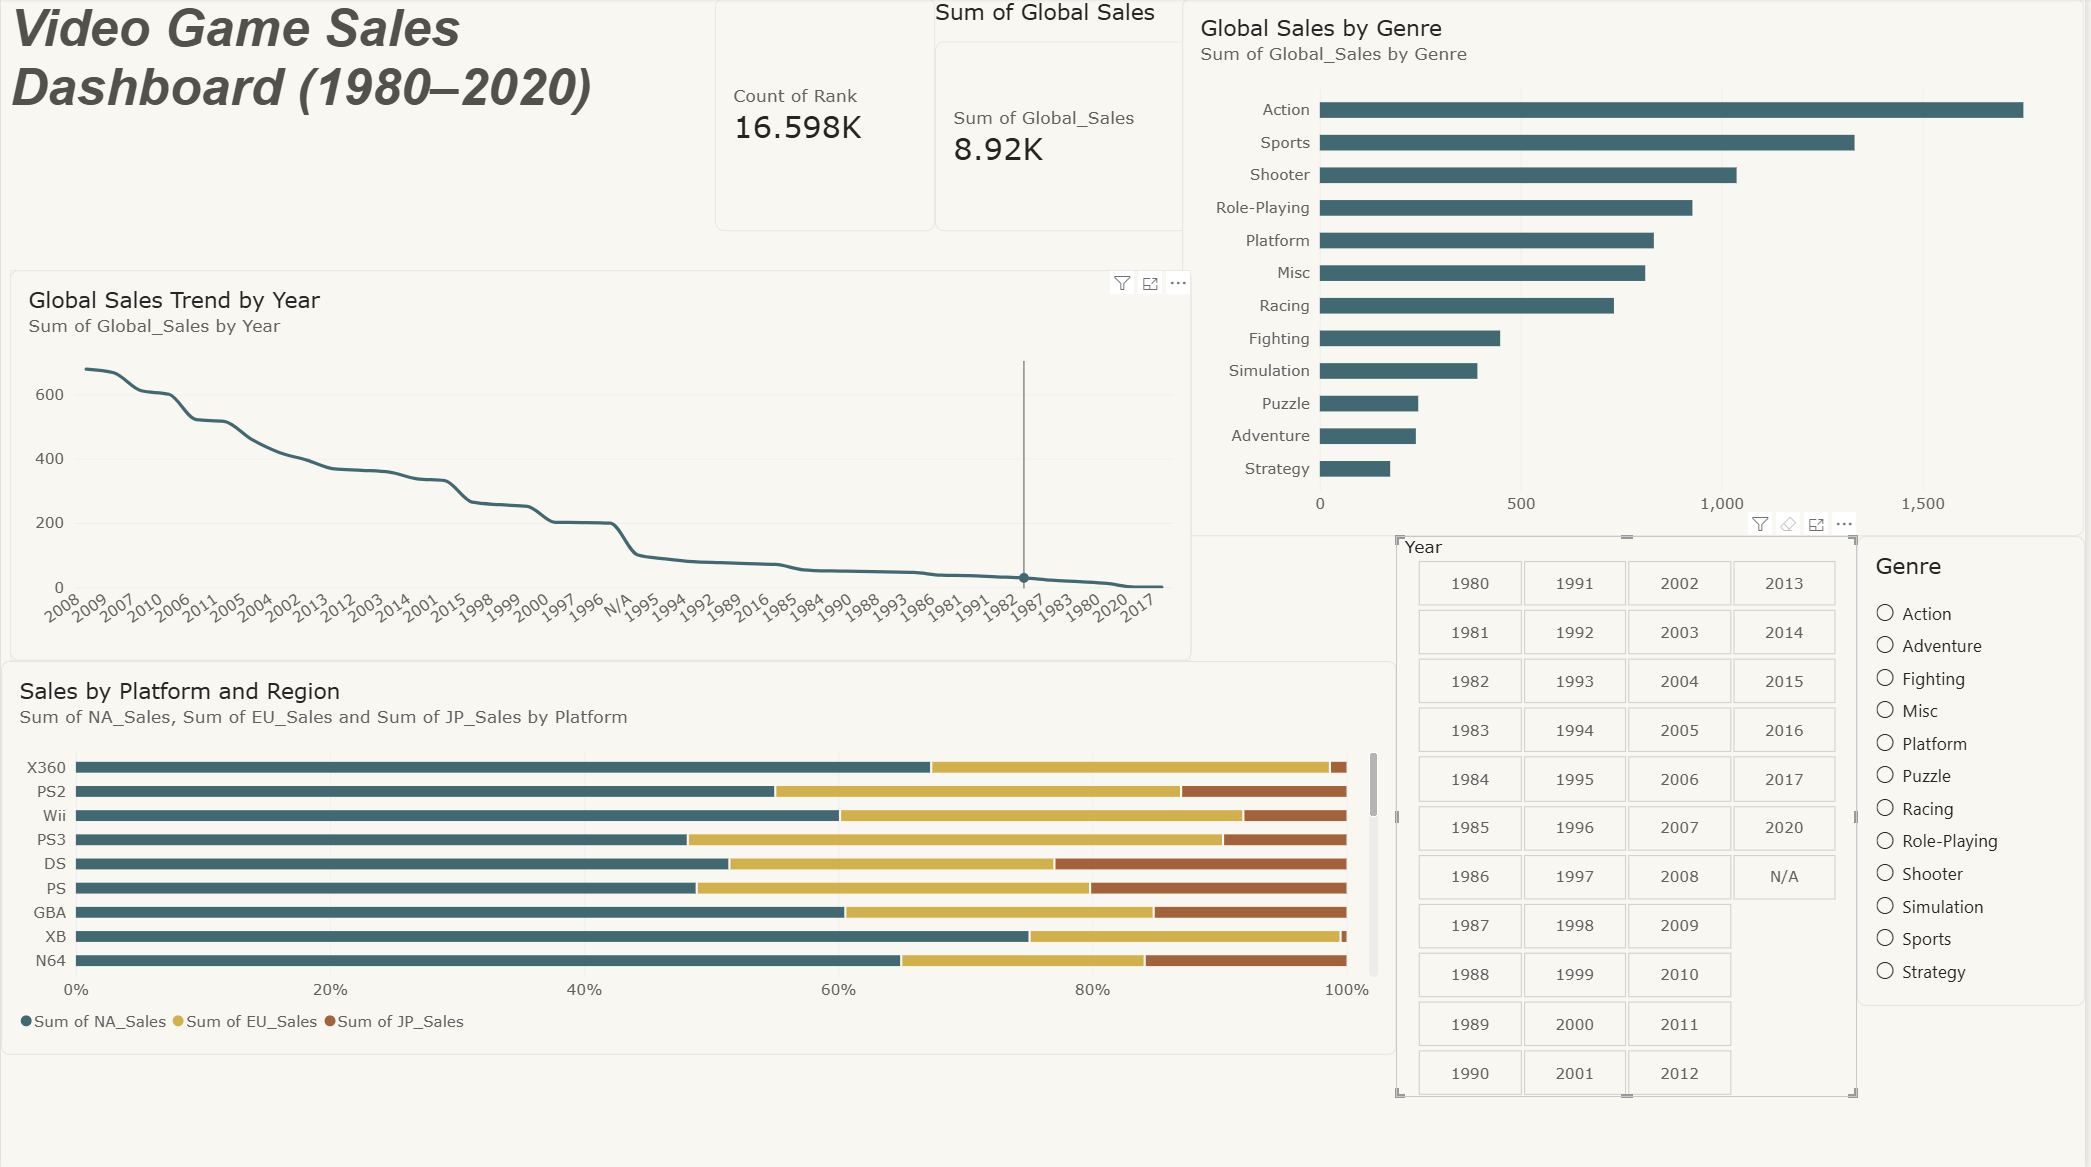

Layout of this report page (visuals, bound fields, positions):
{"tool":"powerbi","page":{"name":"Page 1","canvas":[1920,1080],"ordinal":0},"visuals":[{"type":"cardVisual","title":"Sum of Global Sales","fields":{"Data":["Sum(vgsalesGlobale.Global_Sales)"]},"box":[860.9,0,235.6,216],"z":0},{"type":"cardVisual","fields":{"Data":["CountNonNull(vgsalesGlobale.Rank)"]},"box":[657.7,0,203.2,216],"z":1000},{"type":"clusteredBarChart","title":"Global Sales by Genre","fields":{"Category":["vgsalesGlobale.Genre"],"Y":["Sum(vgsalesGlobale.Global_Sales)"]},"box":[1088.6,0,831.4,495.7],"z":2000},{"type":"lineChart","title":"Global Sales Trend by Year","fields":{"Category":["vgsalesGlobale.Year"],"Y":["Sum(vgsalesGlobale.Global_Sales)"]},"box":[7.9,250.3,1088.6,360.2],"z":3000},{"type":"hundredPercentStackedBarChart","title":"Sales by Platform and Region","fields":{"Category":["vgsalesGlobale.Platform"],"Y":["Sum(vgsalesGlobale.NA_Sales)","Sum(vgsalesGlobale.EU_Sales)","Sum(vgsalesGlobale.JP_Sales)"]},"box":[0,610.6,1285.9,363.2],"z":4000},{"type":"listSlicer","fields":{"Values":["vgsalesGlobale.Genre"]},"box":[1709.9,495.7,210.1,432.9],"z":5000},{"type":"slicer","fields":{"Values":["vgsalesGlobale.Year"]},"box":[1285.9,495.7,424,517.3],"z":6000},{"type":"textbox","box":[1710,929,210,150],"z":7000},{"type":"textbox","title":"Video Game Sales Dashboard (1980–2020)","box":[8,0,650,216],"z":8000}]}

Visuals, with their boxes in screenshot pixels (x1, y1, x2, y2), scaled from the page's 1920x1080 canvas onto the 2091x1167 screenshot:
"Sum of Global Sales" cardVisual: (938,0,1194,233)
cardVisual - CountNonNull(vgsalesGlobale.Rank): (716,0,938,233)
"Global Sales by Genre" clusteredBarChart: (1186,0,2090,536)
"Global Sales Trend by Year" lineChart: (9,270,1194,660)
"Sales by Platform and Region" hundredPercentStackedBarChart: (0,660,1400,1052)
listSlicer - vgsalesGlobale.Genre: (1862,536,2090,1003)
slicer - vgsalesGlobale.Year: (1400,536,1862,1095)
textbox: (1862,1004,2090,1166)
"Video Game Sales Dashboard (1980–2020)" textbox: (9,0,717,233)
